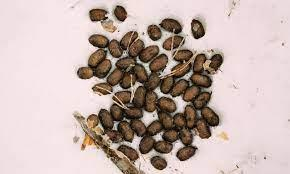Elk: (95, 41, 198, 149)
